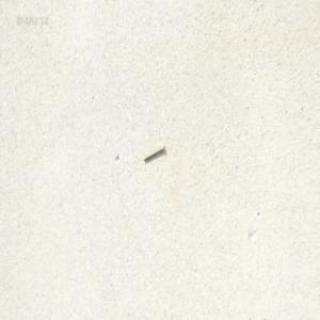Bolttrack_idkeyframe: (142, 143, 164, 161)
